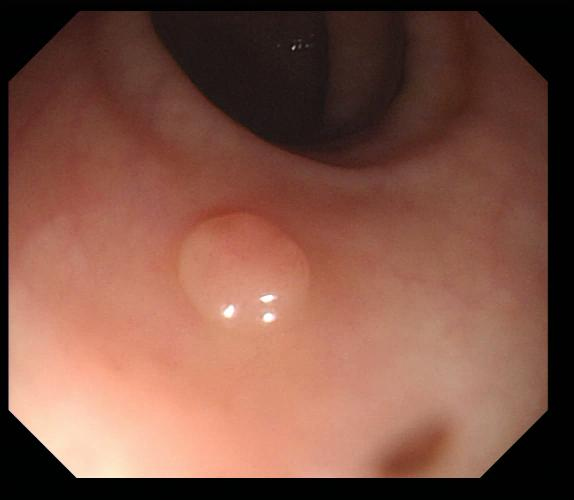polyp: (177, 211, 313, 335)
